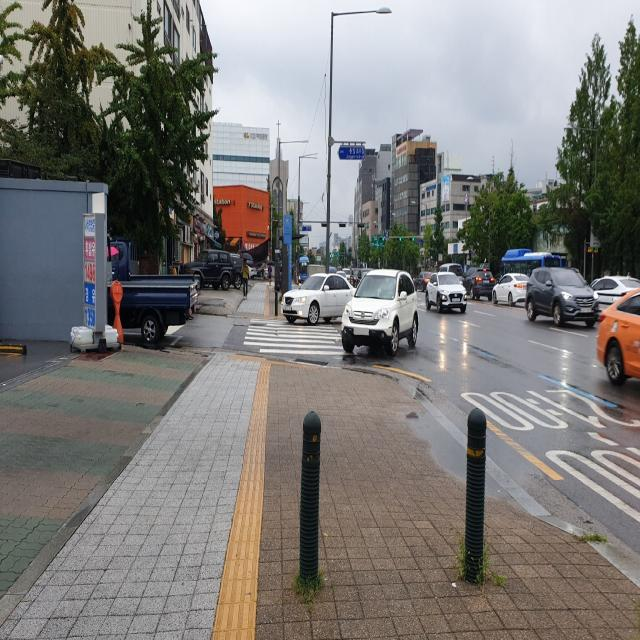횡단보도: (243, 318, 358, 356)
